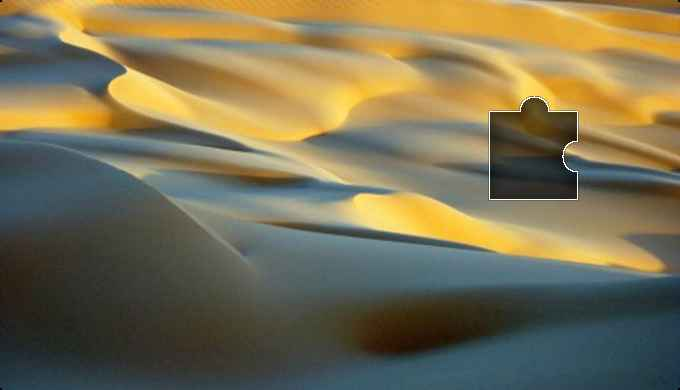gap: (491, 97, 578, 199)
